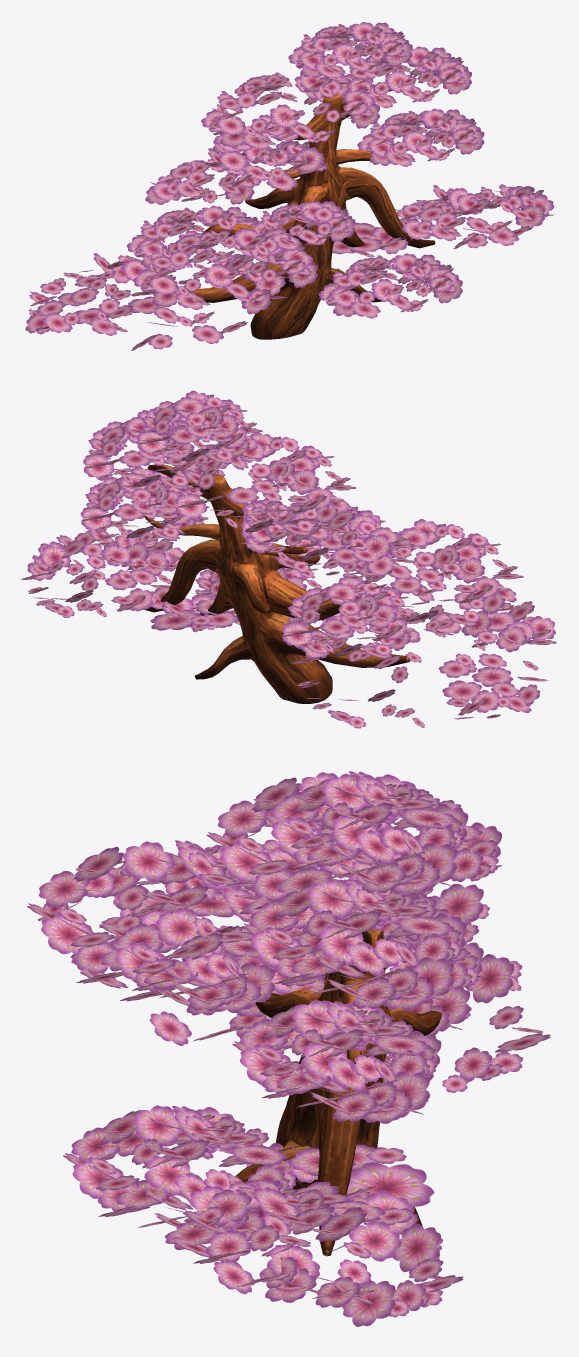
The model's file is arbre.fbx.
3 views of the same model, one above another, from view 1: azimuth 30°, elevation 25°; view 2: azimuth 150°, elevation 25°; view 3: azimuth 270°, elevation 25° (orthographic). The views are drawn at different scales.
Parts seen in each view (by area): view 1: Arbre; view 2: Arbre; view 3: Arbre.
Part boxes in pixels (x1,y1,x2,y2): Arbre: (25,22,554,350); Arbre: (20,390,556,728); Arbre: (27,771,550,1326).
Size of the model in its own units: 832 by 432 by 431.
